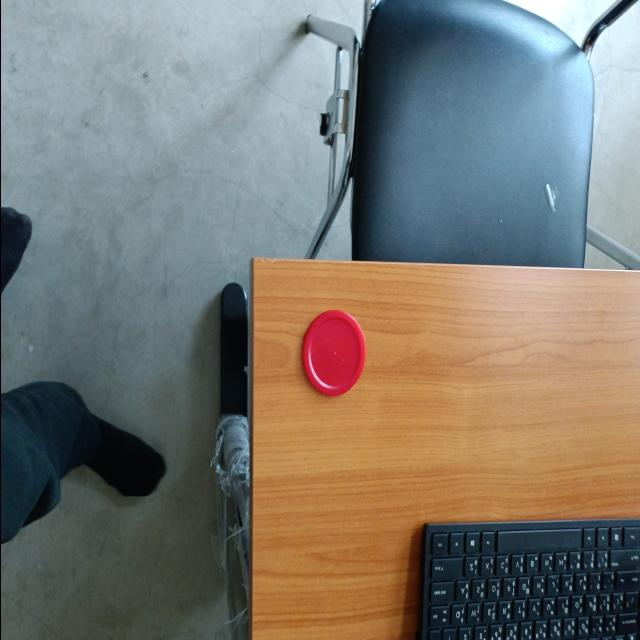chip: (300, 308, 366, 398)
